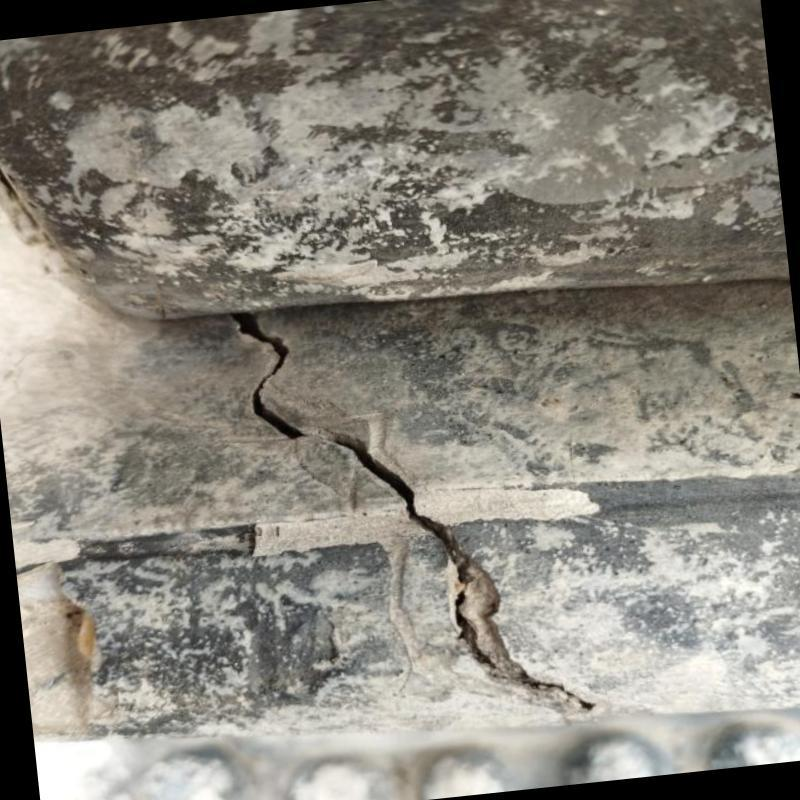crack: (231, 312, 593, 709)
